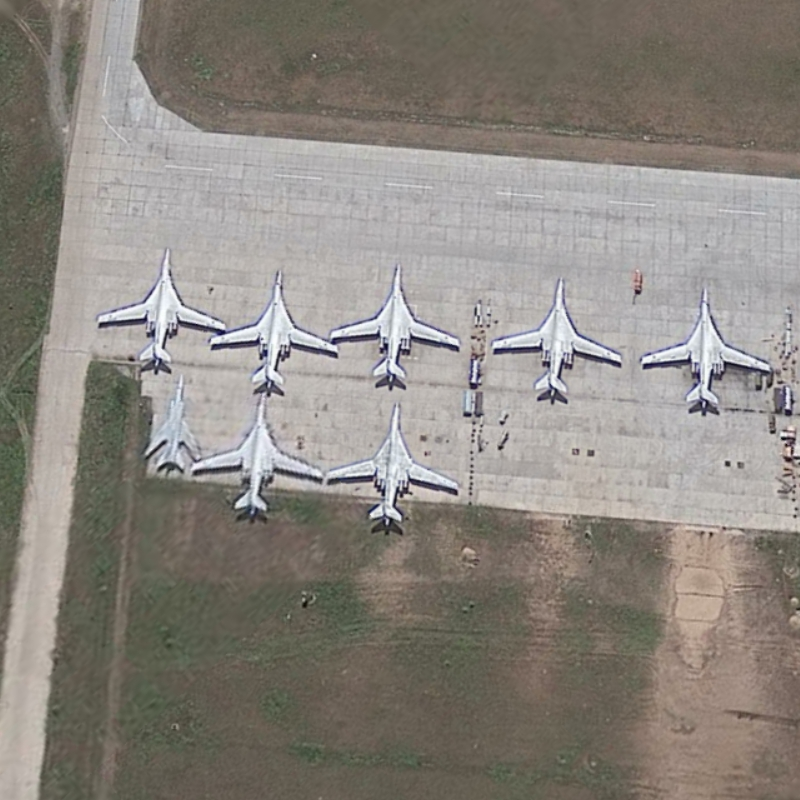A12: (141, 370, 205, 473)
A6: (324, 397, 464, 530), (187, 389, 326, 522), (488, 272, 626, 404), (636, 283, 777, 412), (204, 264, 342, 393), (328, 261, 466, 389), (92, 242, 226, 372)
